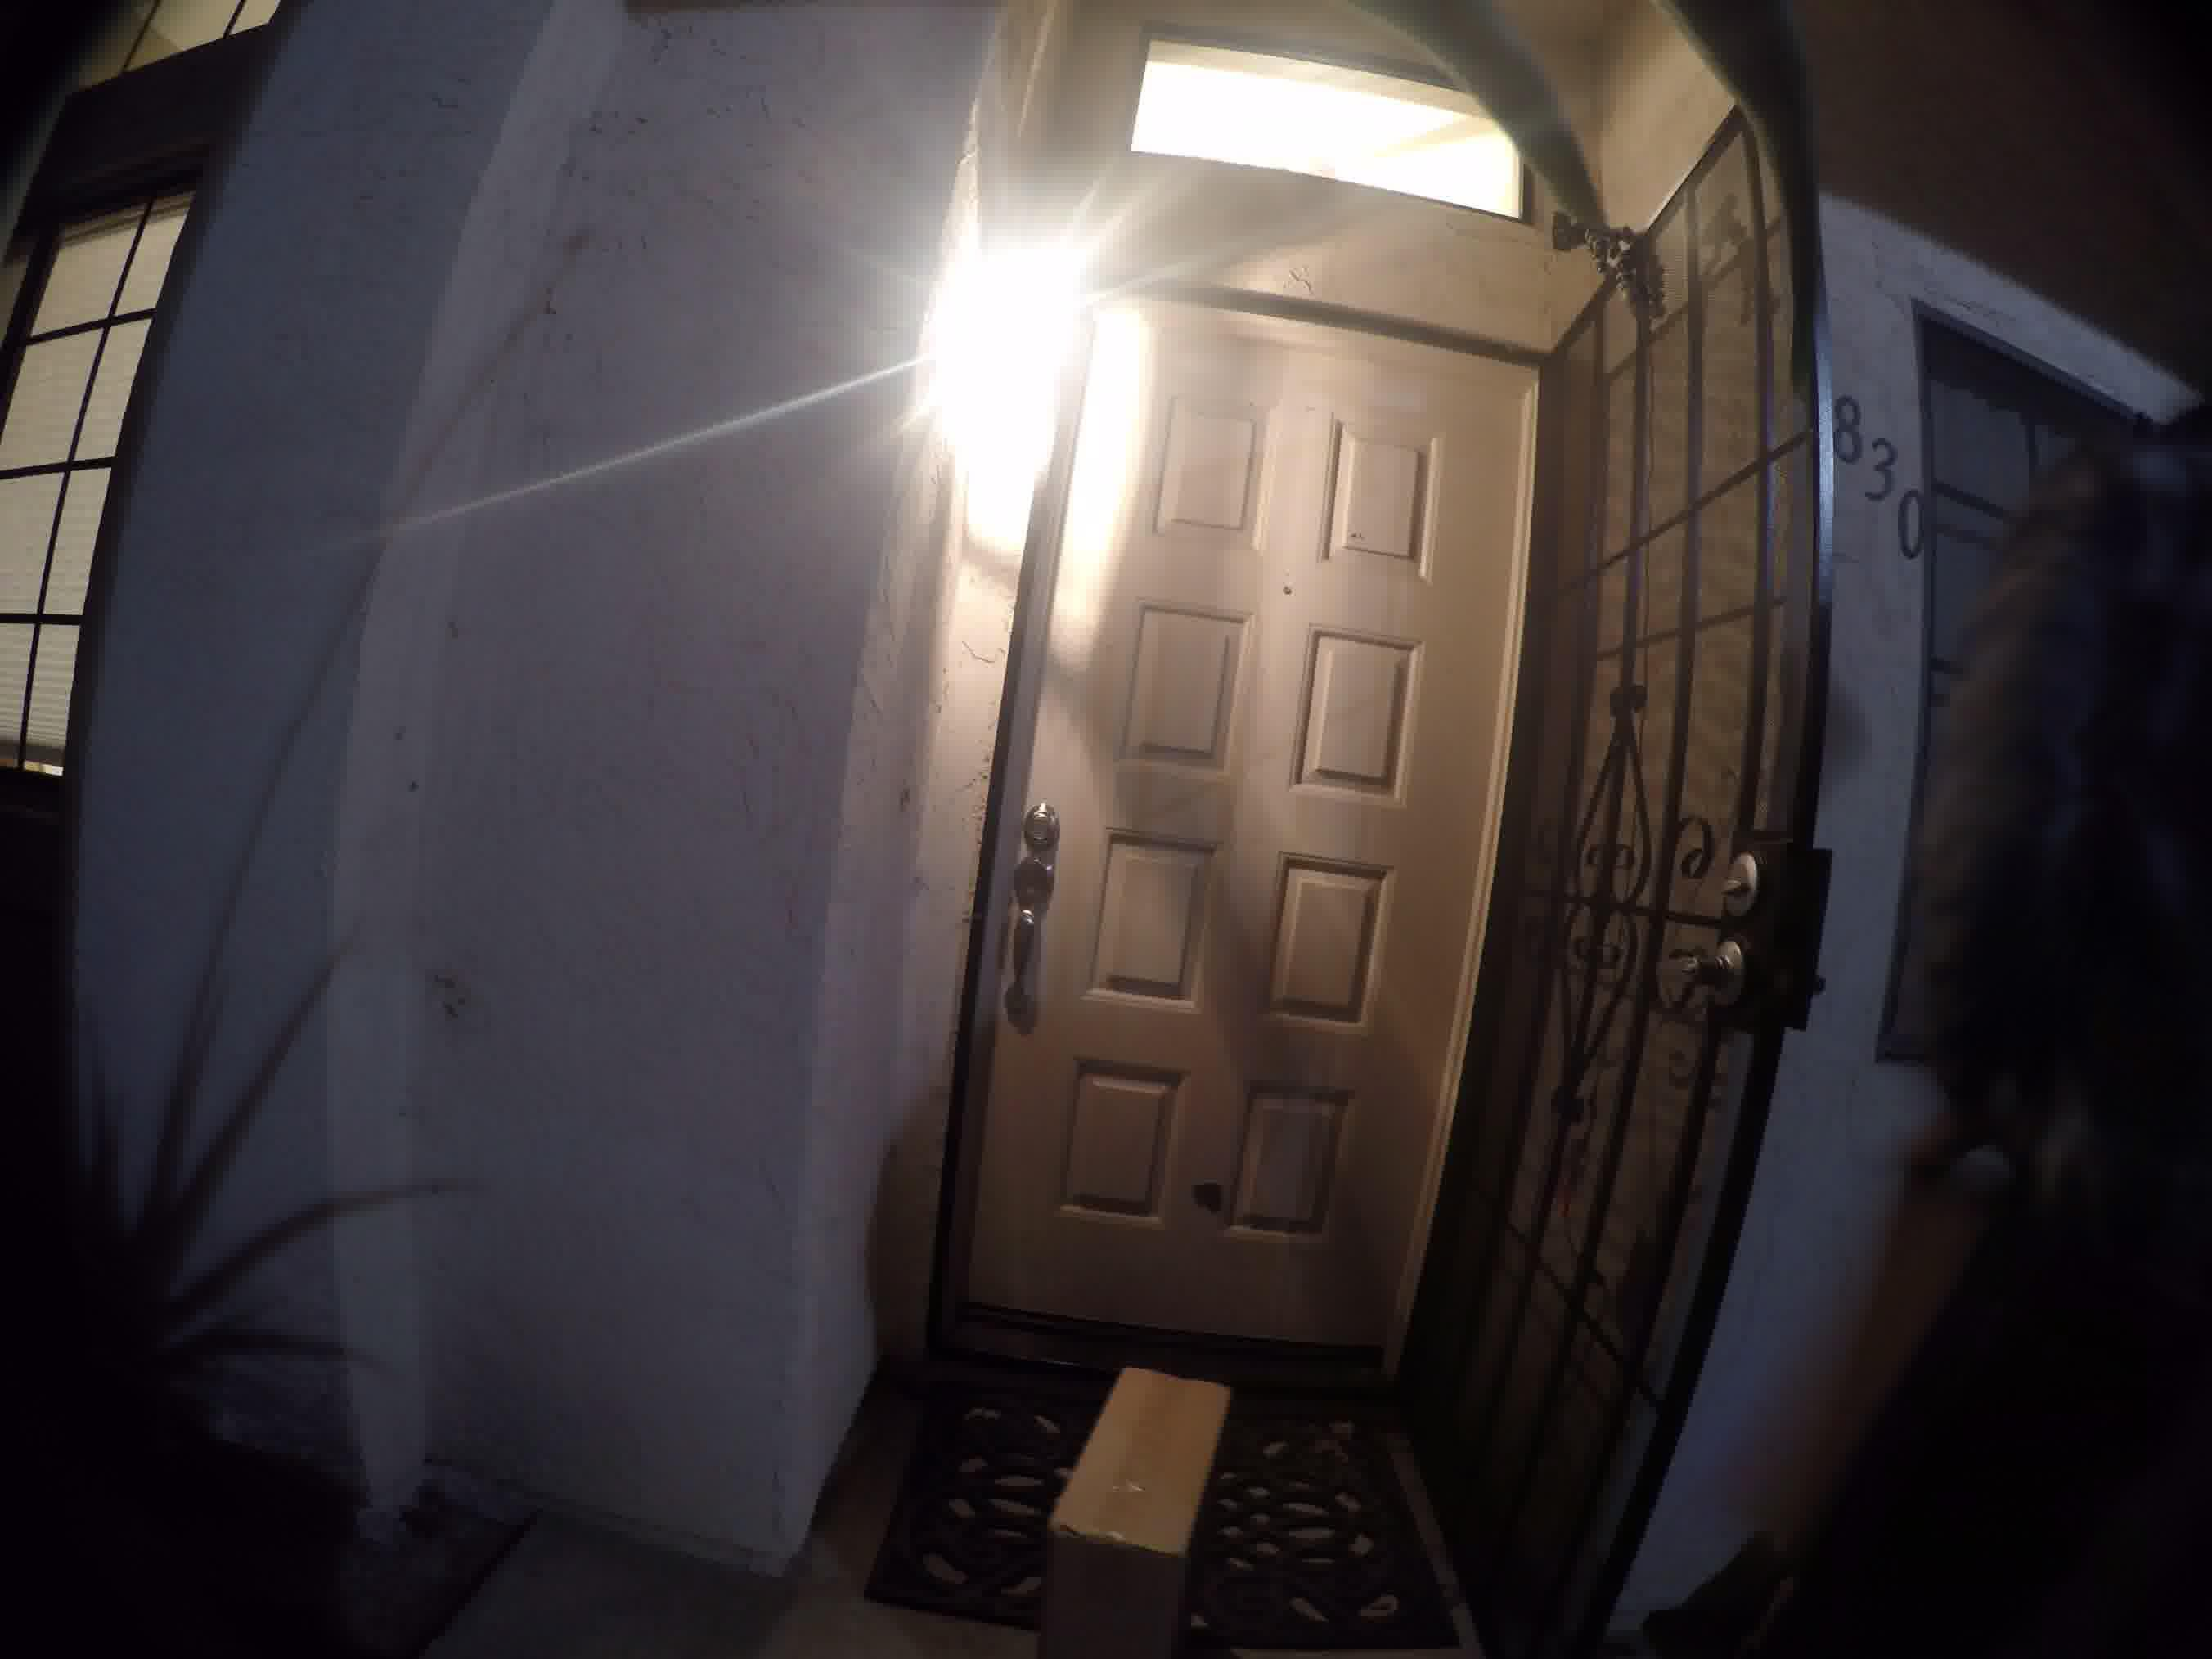box: (1028, 1324, 1242, 1598)
